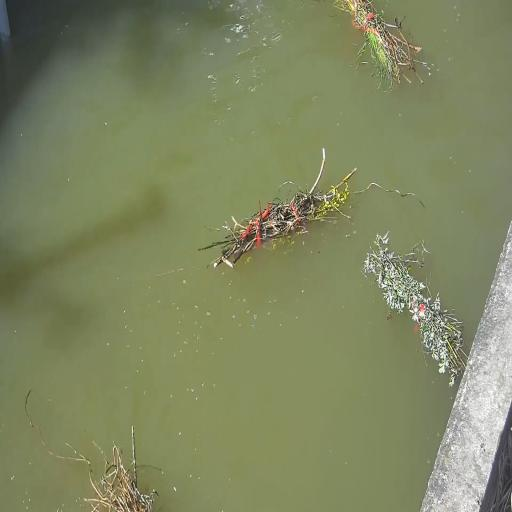twig: (25, 390, 158, 512), (363, 233, 467, 385), (199, 172, 353, 266), (333, 0, 423, 88)
